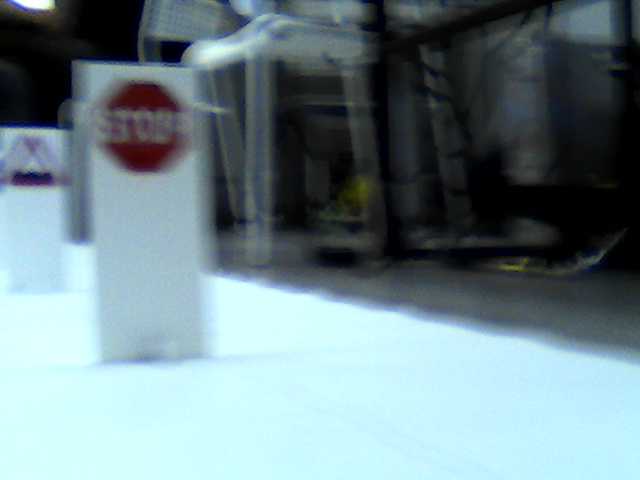Stop: (93, 76, 186, 164)
